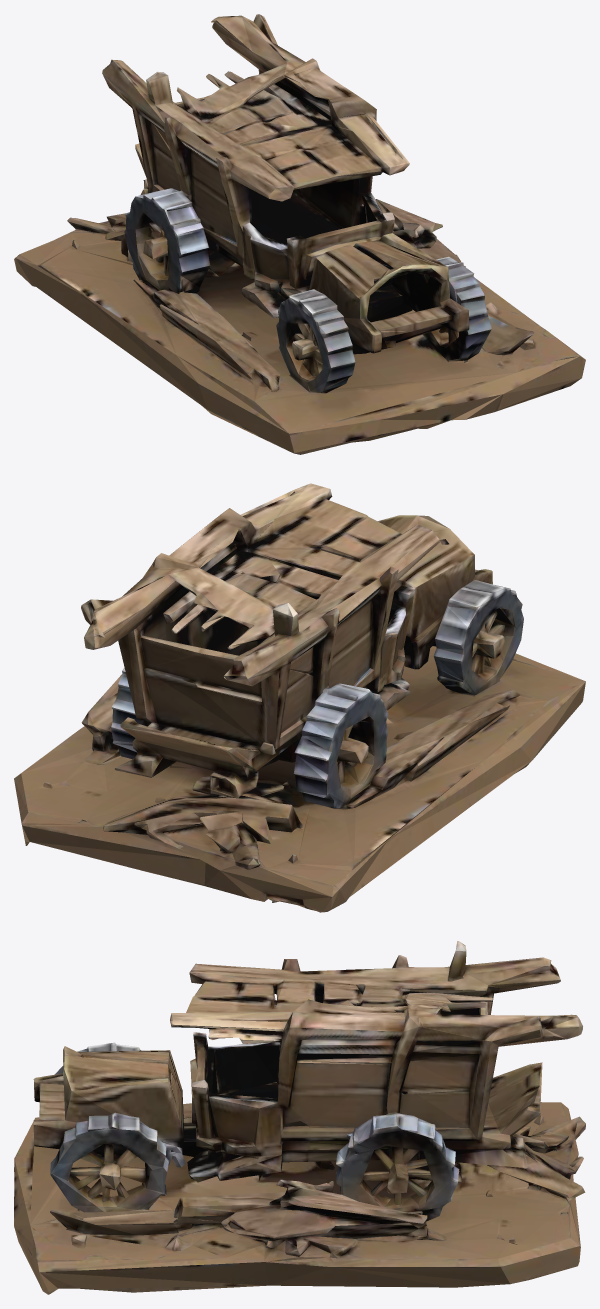
Rendered from field_broken_cart_burnt_01.glb.
3 views of the same model, one above another, from view 1: azimuth 30°, elevation 25°; view 2: azimuth 150°, elevation 25°; view 3: azimuth 270°, elevation 25° (orthographic). The views are drawn at different scales.
Parts seen in each view (by area): view 1: geometry_0; view 2: geometry_0; view 3: geometry_0.
Boxes of the visible parts, left/top/right/bottom form: geometry_0: left=14, top=14, right=585, bottom=454; geometry_0: left=14, top=483, right=585, bottom=912; geometry_0: left=14, top=941, right=585, bottom=1294.
Size of the model in its own units: 0.6957 by 0.4625 by 0.9988.
Materials: 1 (1 with a texture image).
